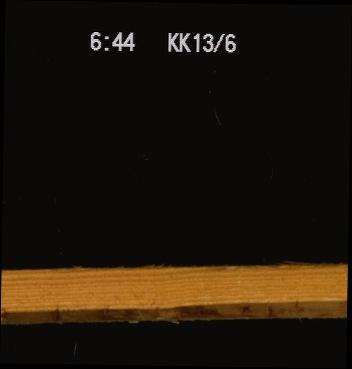wave: (1, 253, 346, 280), (2, 299, 343, 326)
